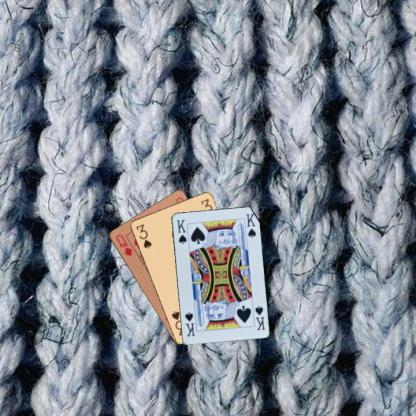3s: (133, 221, 152, 250)
Ks: (252, 302, 266, 332), (174, 217, 188, 245)
Qd: (113, 232, 134, 258)
